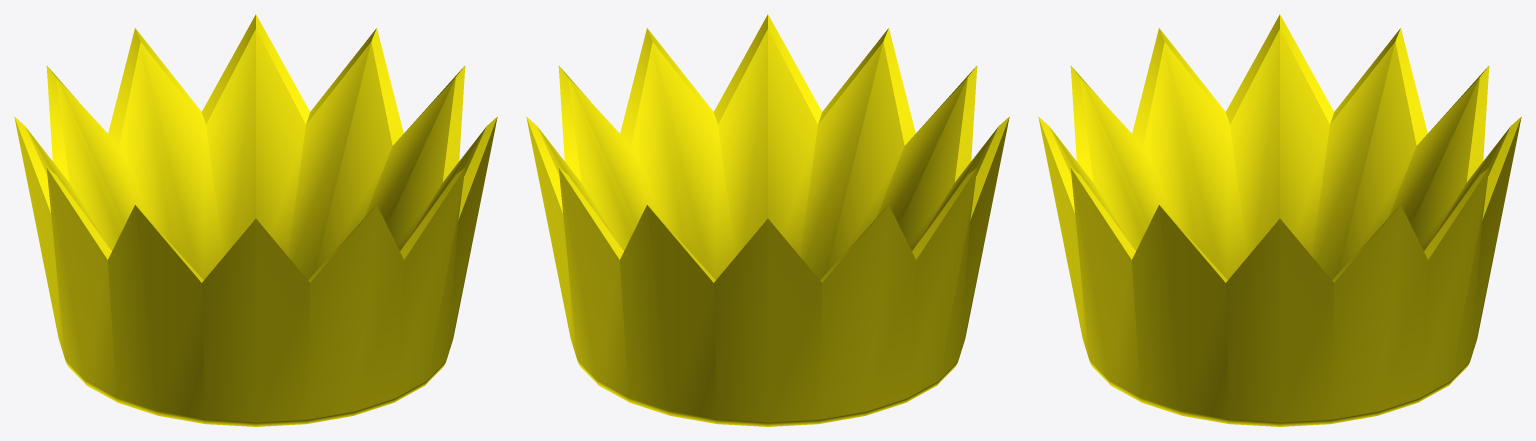
The model's file is Crown.fbx.
3 views of the same model, side by side, from view 1: azimuth 30°, elevation 25°; view 2: azimuth 150°, elevation 25°; view 3: azimuth 270°, elevation 25° (orthographic).
Visible parts, largest first — view 1: polySurface572; view 2: polySurface572; view 3: polySurface572.
Boxes of the visible parts, x1,y1,x2,y2 form: polySurface572: (14,14,497,426); polySurface572: (526,14,1009,426); polySurface572: (1038,14,1521,426).
Bounding box in the file's own units: 68.83 × 35.87 × 68.83.
